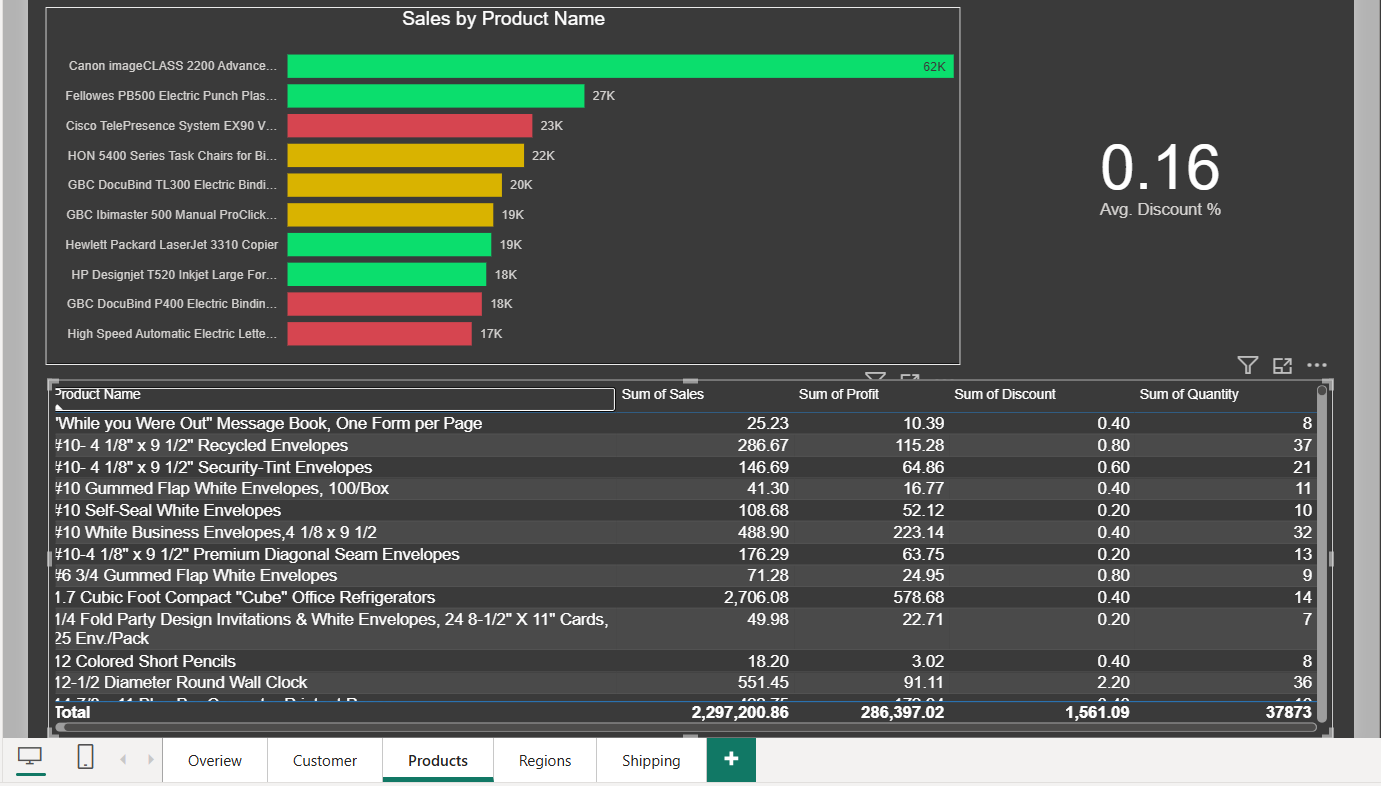

What the dashboard file says about the page in this screenshot:
{"tool":"powerbi","page":{"name":"Products","canvas":[1280,720],"ordinal":2},"visuals":[{"type":"barChart","title":" Sales by Product Name","fields":{"Category":["Orders.Product Name"],"Y":["Orders.Total Sales"]},"box":[17.4,14.9,883,345],"z":0},{"type":"card","fields":{"Values":["Orders.Avg. Discount %"]},"box":[929.1,117.1,328.8,112.1],"z":1000},{"type":"tableEx","fields":{"Values":["Orders.Product Name","Sum(Orders.Sales)","Sum(Orders.Profit)","Sum(Orders.Discount)","Sum(Orders.Quantity)"]},"box":[19.3,374,1240.2,346.2],"z":2000}]}

Visuals, with their boxes on the page's 1280x720 design canvas (x1, y1, x2, y2). These are canvas units, not pixel positions in the 1381x786 screenshot, which may show the page scaled, cropped or inside an application window:
" Sales by Product Name" barChart: 17, 15, 900, 360
card - Orders.Avg. Discount %: 929, 117, 1258, 229
tableEx - Orders.Product Name x Sum(Orders.Sales): 19, 374, 1260, 720
